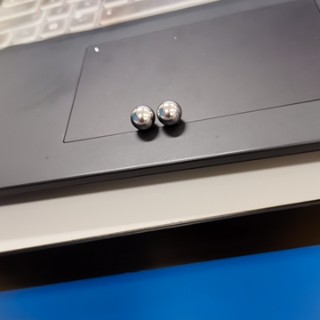ironball: (127, 100, 158, 142), (156, 91, 186, 130)
